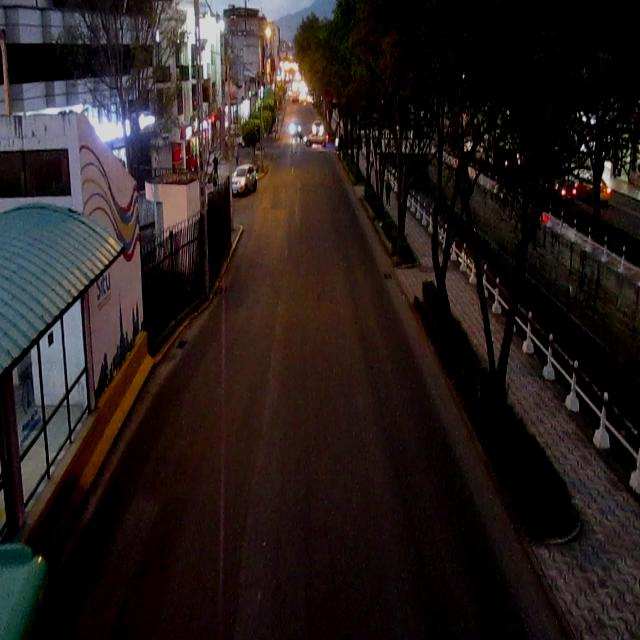SUV: (234, 166, 258, 196)
